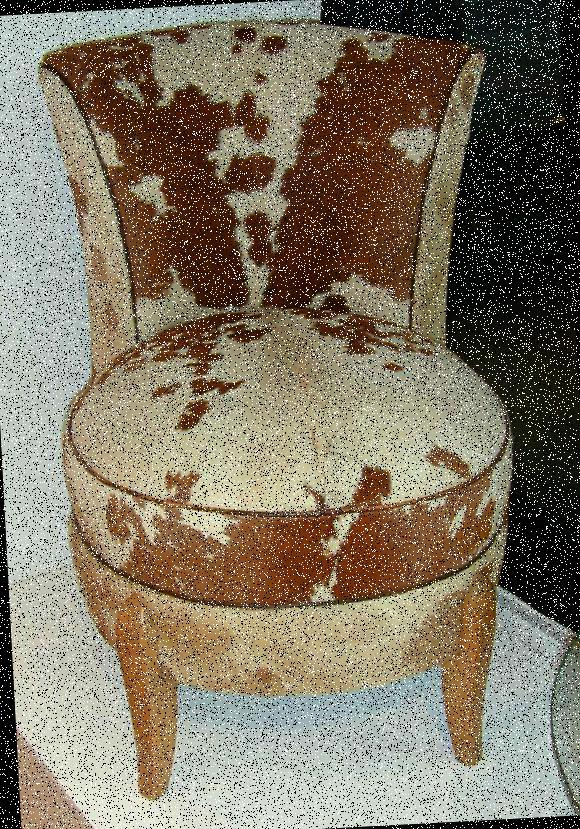Silla: (33, 14, 527, 802)
